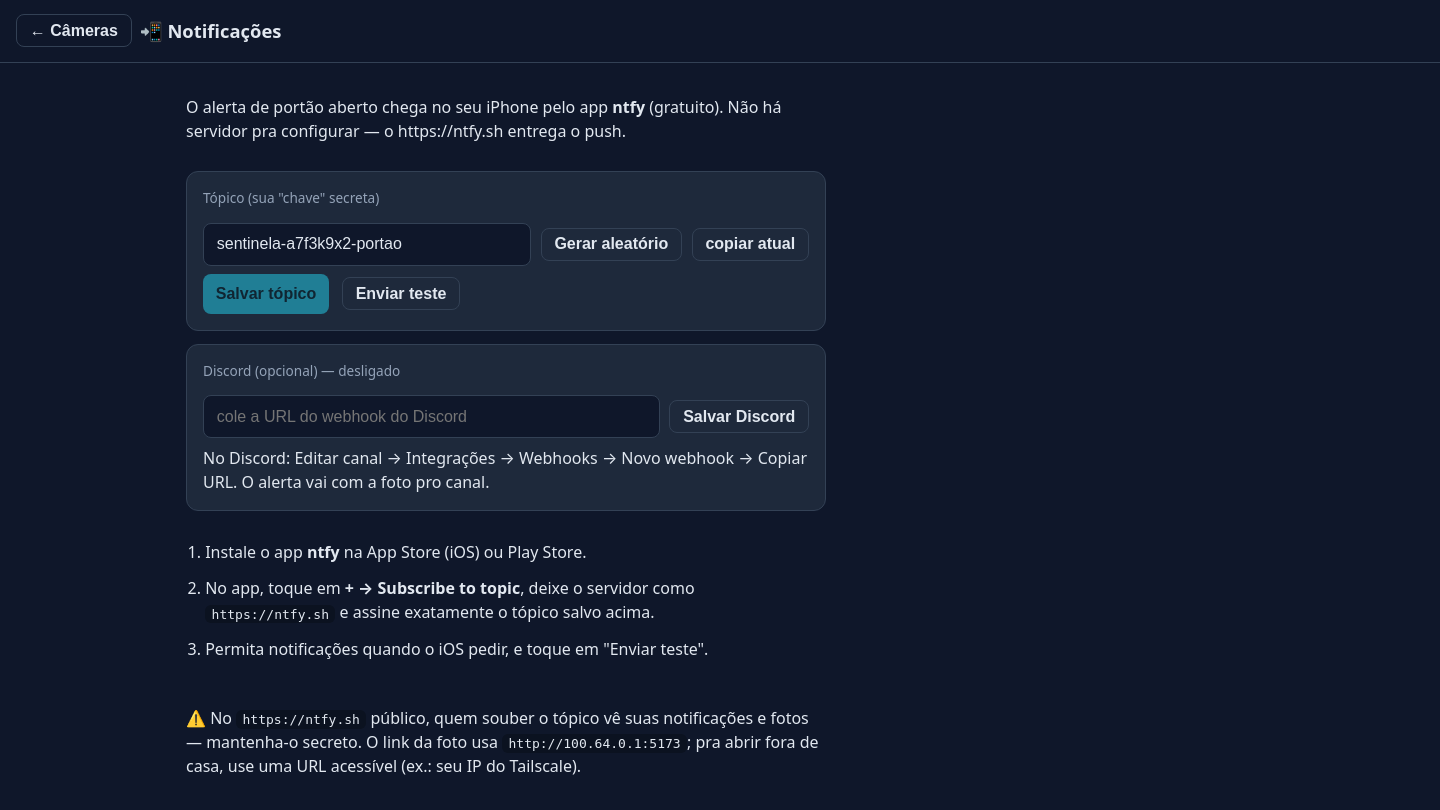
Test case: Notifications › saves the new topic
The image size is (1440, 810).
Replace the text in the field labelled "Tópico (sua \"chave\" secreta)" with "sentinela-novo-1234567890" at (367, 244), box [203,223,531,266]
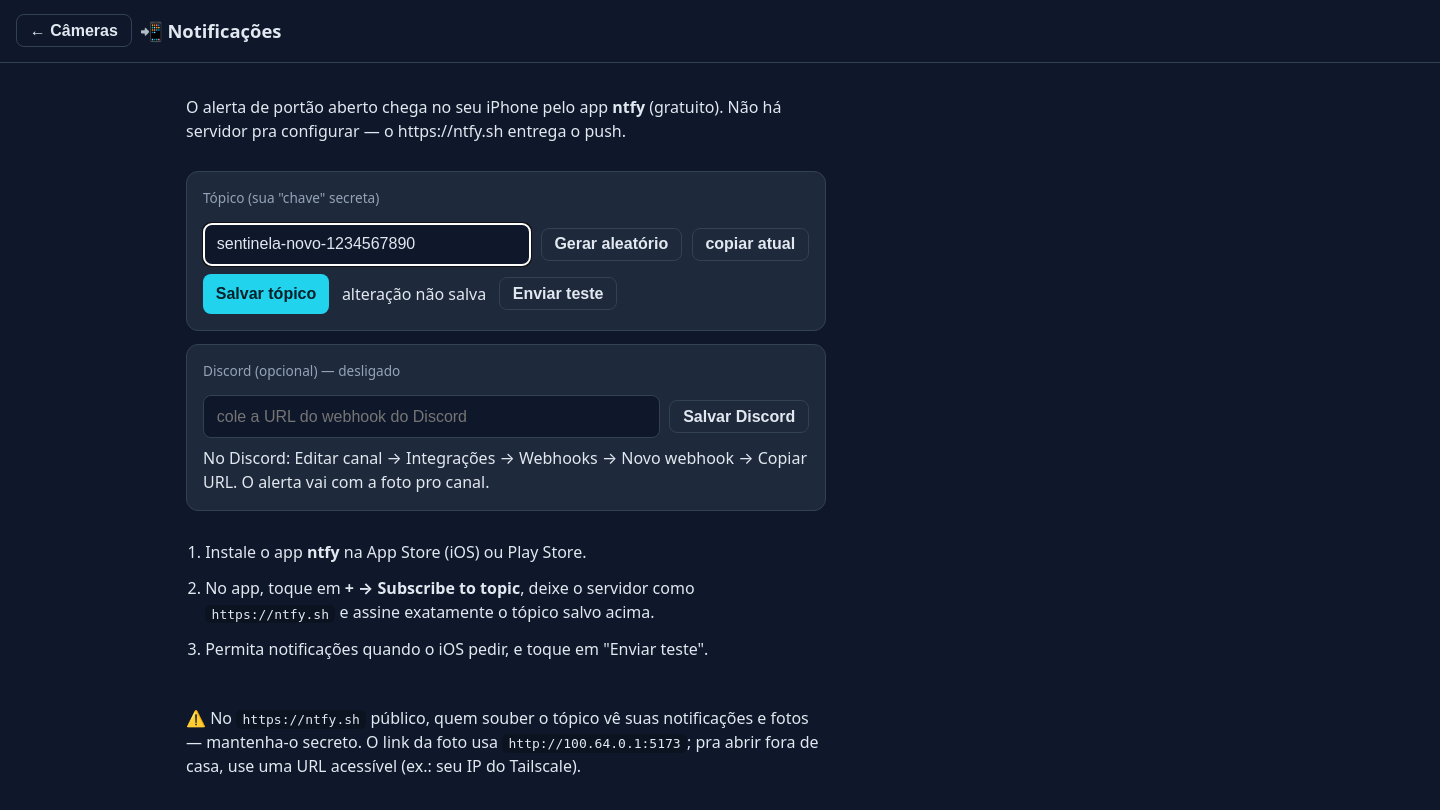
Click the button "Salvar tópico" at (266, 294), box [203,274,329,314]
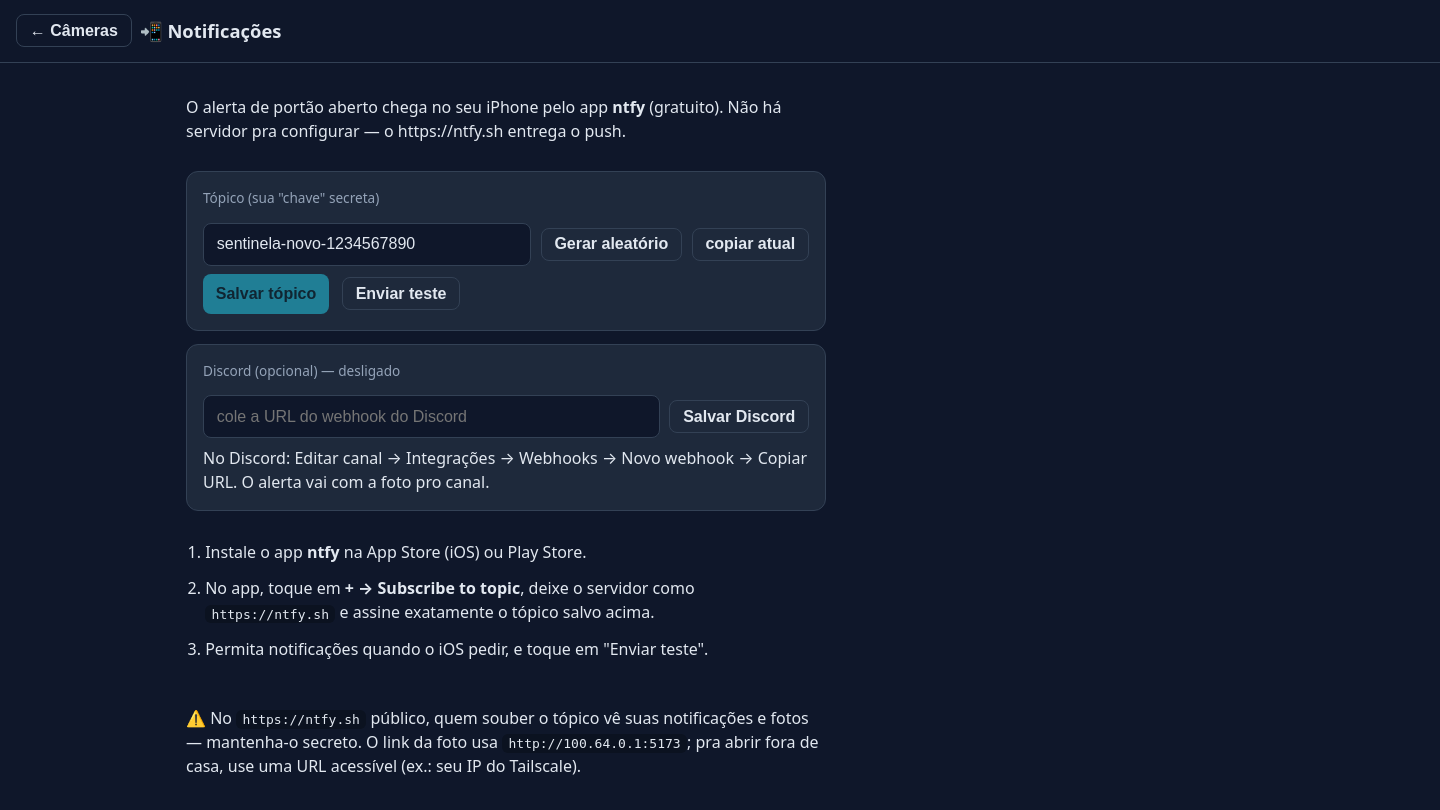
Check: the text "alteração não salva" is gone
